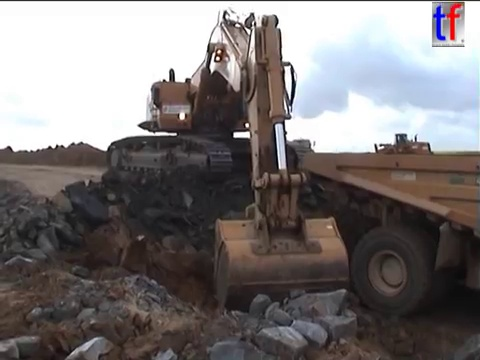excavator: (102, 4, 354, 332)
truck: (294, 148, 480, 321)
wheel loader: (361, 131, 436, 165)
